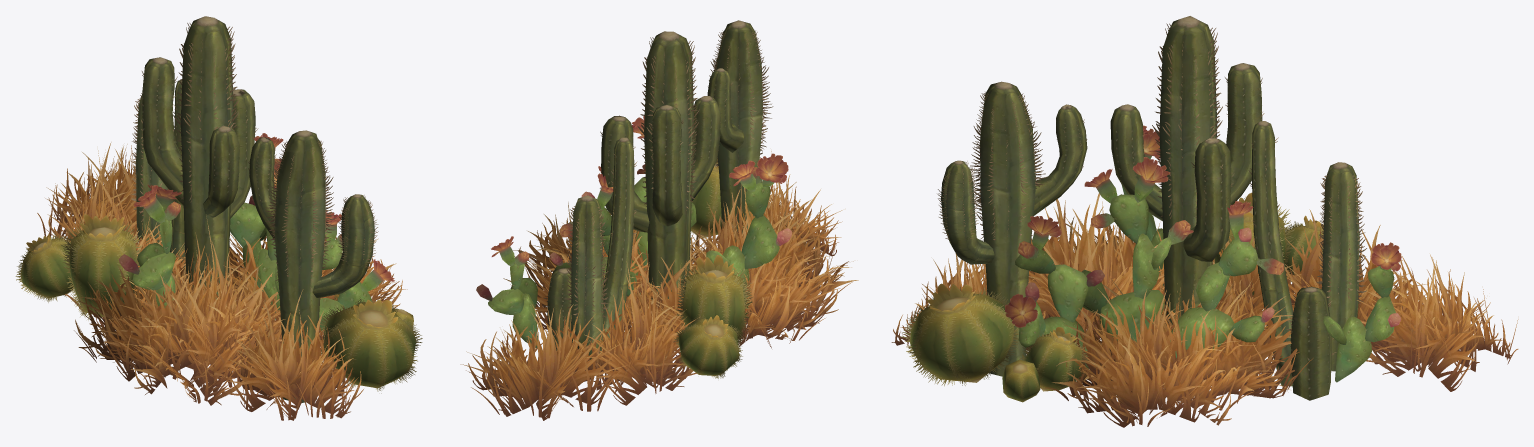
The picture shows the model from 3 angles, left to right: view 1: azimuth 30°, elevation 25°; view 2: azimuth 150°, elevation 25°; view 3: azimuth 270°, elevation 25°; orthographic projection. The views are drawn at different scales.
Size of the model in its own units: 8.49 by 8.03 by 12.91.
Materials: 4 (4 with a texture image).
